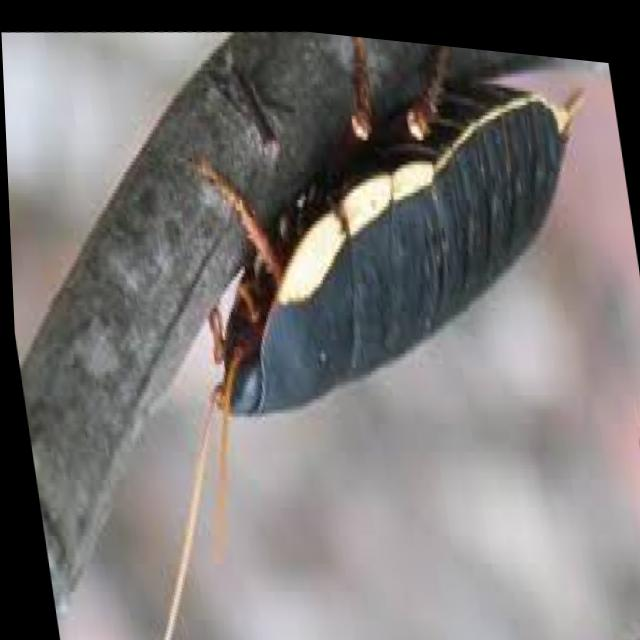Cockroach: (58, 5, 640, 640)
